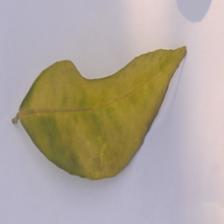greening: (3, 36, 194, 186)
